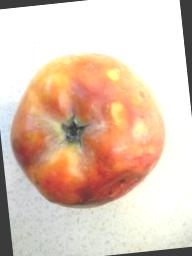Apple Overripe: (0, 40, 175, 220)
